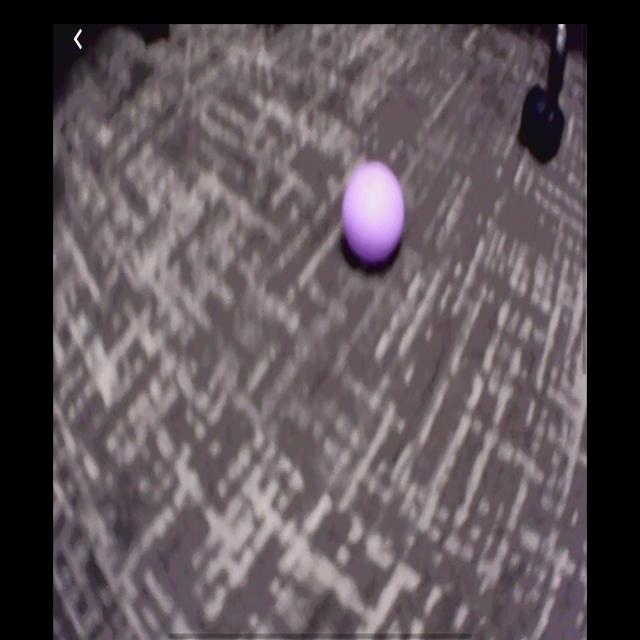ball: (342, 161, 404, 262)
